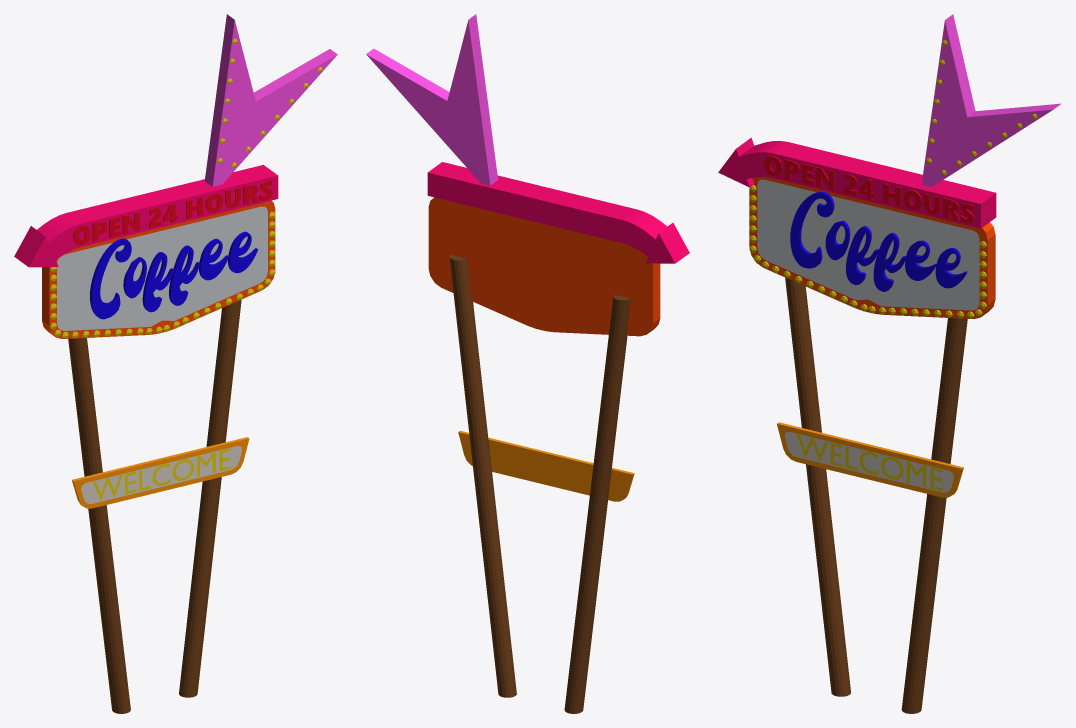
Rendered from Coffee_Sign.gltf.
3 views of the same model, side by side, from view 1: azimuth 30°, elevation 25°; view 2: azimuth 150°, elevation 25°; view 3: azimuth 330°, elevation 25° (orthographic). The views are drawn at different scales.
Visible parts, largest first — view 1: Coffee_Sign; view 2: Coffee_Sign; view 3: Coffee_Sign.
Boxes of the visible parts, box(x1,y1,x2,y2) form: Coffee_Sign: box(14, 14, 337, 713); Coffee_Sign: box(366, 14, 689, 713); Coffee_Sign: box(718, 14, 1061, 713).
Size of the model in its own units: 2.43 by 4.96 by 0.2352.
